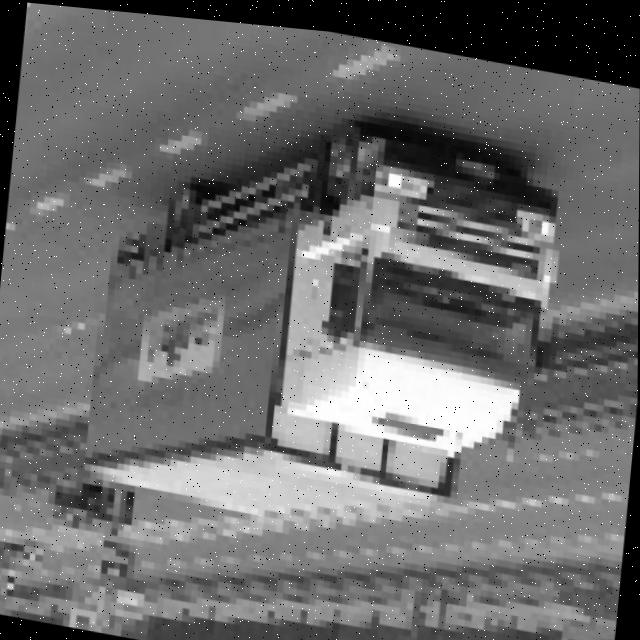truck: (268, 94, 597, 482)
